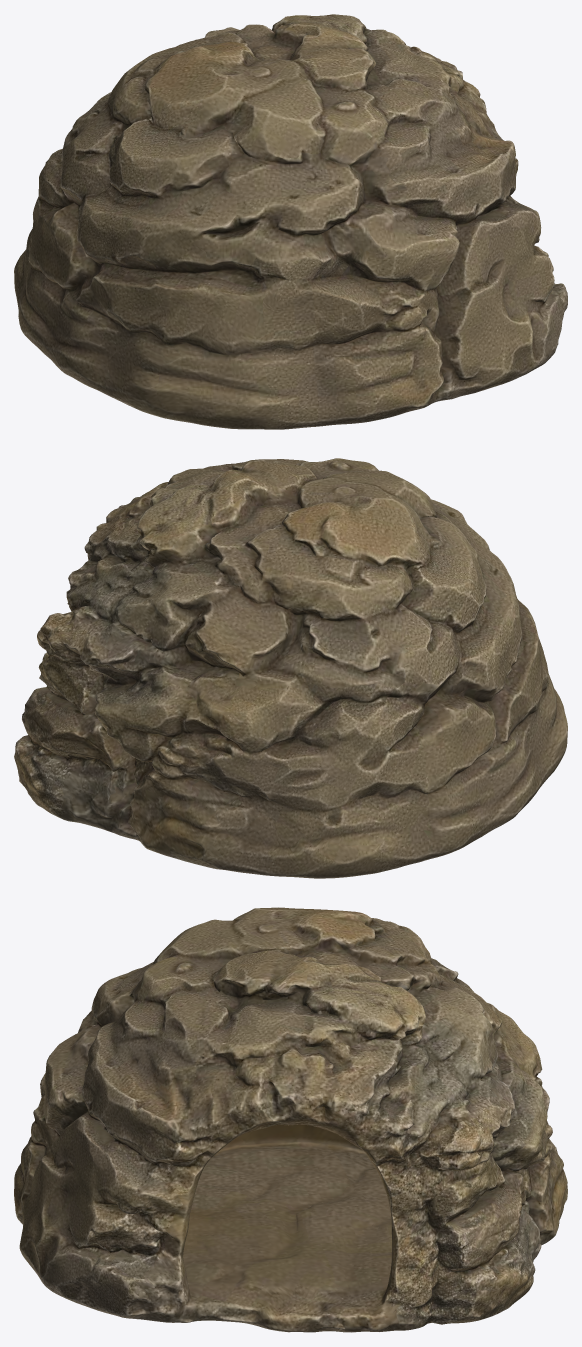
File: rock_cave_hide_01.glb
3 renders of one model, top to bottom at view 1: azimuth 30°, elevation 25°; view 2: azimuth 150°, elevation 25°; view 3: azimuth 270°, elevation 25°, orthographic. The views are drawn at different scales.
Parts seen in each view (by area): view 1: tripo_node_111d91b8-3fef-4d2d-9b67-3e4885e6fc55; view 2: tripo_node_111d91b8-3fef-4d2d-9b67-3e4885e6fc55; view 3: tripo_node_111d91b8-3fef-4d2d-9b67-3e4885e6fc55.
Boxes of the visible parts, x1,y1,x2,y2 form: tripo_node_111d91b8-3fef-4d2d-9b67-3e4885e6fc55: (14, 14, 567, 429); tripo_node_111d91b8-3fef-4d2d-9b67-3e4885e6fc55: (14, 458, 567, 878); tripo_node_111d91b8-3fef-4d2d-9b67-3e4885e6fc55: (14, 907, 567, 1332).
Size of the model in its own units: 0.9252 by 0.5765 by 0.9795.
1 material, 1 textured.
